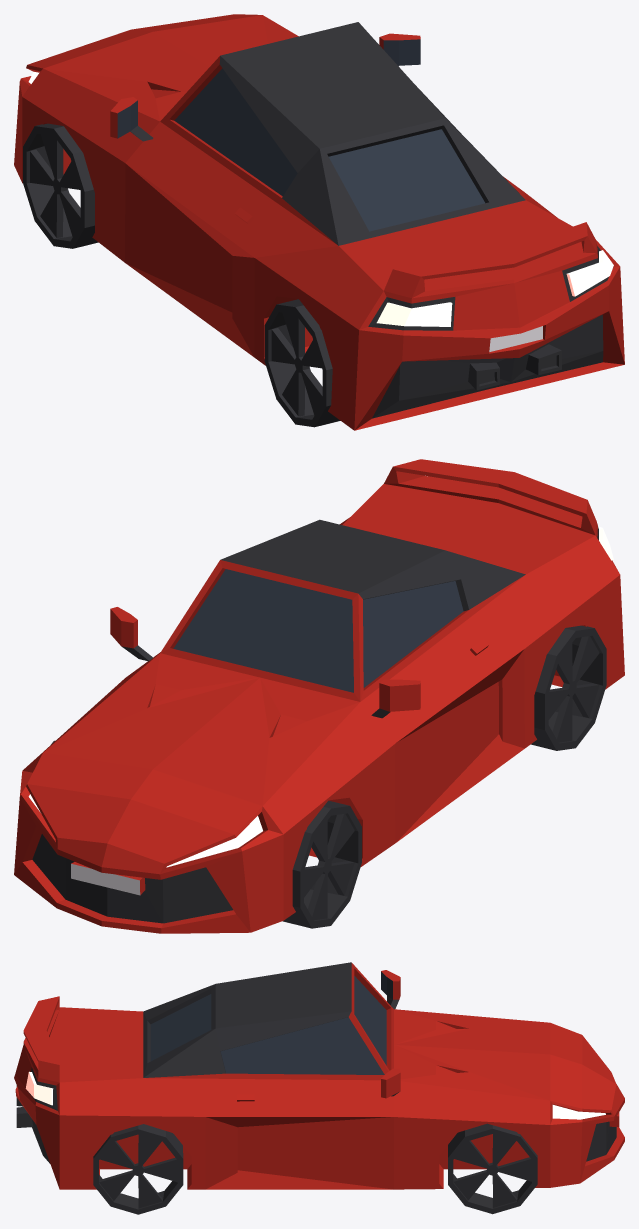
Rendered from rv_sport.glb.
3 renders of one model, top to bottom at view 1: azimuth 30°, elevation 25°; view 2: azimuth 150°, elevation 25°; view 3: azimuth 270°, elevation 25°, orthographic. The views are drawn at different scales.
Parts seen in each view (by area): view 1: Body, WheelFL, WheelRL; view 2: Body, WheelRL, WheelFL; view 3: Body, WheelRR, WheelFR.
Boxes of the visible parts, x1=… form: Body: x1=14, y1=14, x2=624, y2=430; WheelFL: x1=23, y1=123, x2=98, y2=248; WheelRL: x1=264, y1=299, x2=340, y2=427; Body: x1=14, y1=459, x2=624, y2=933; WheelRL: x1=531, y1=625, x2=606, y2=750; WheelFL: x1=282, y1=800, x2=361, y2=928; Body: x1=14, y1=962, x2=624, y2=1189; WheelRR: x1=93, y1=1124, x2=183, y2=1214; WheelFR: x1=448, y1=1123, x2=537, y2=1214.
Bounding box in the file's own units: 1.92 × 1.45 × 4.5.
